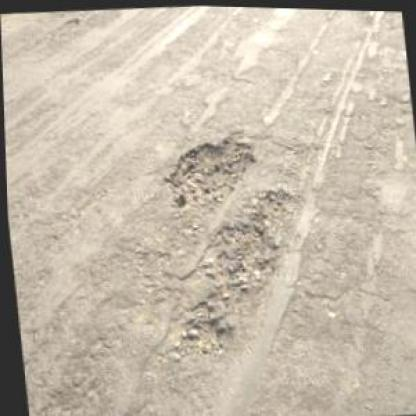pothole: (157, 183, 309, 362), (158, 125, 262, 216)
